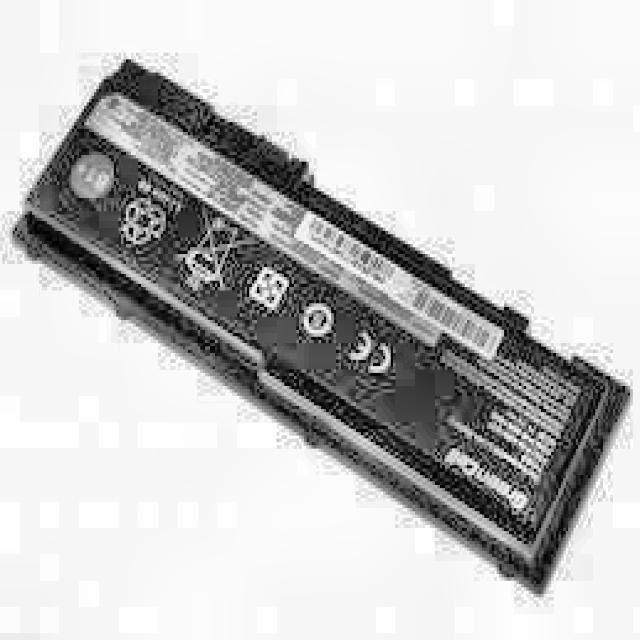Battery: (10, 50, 630, 597)
